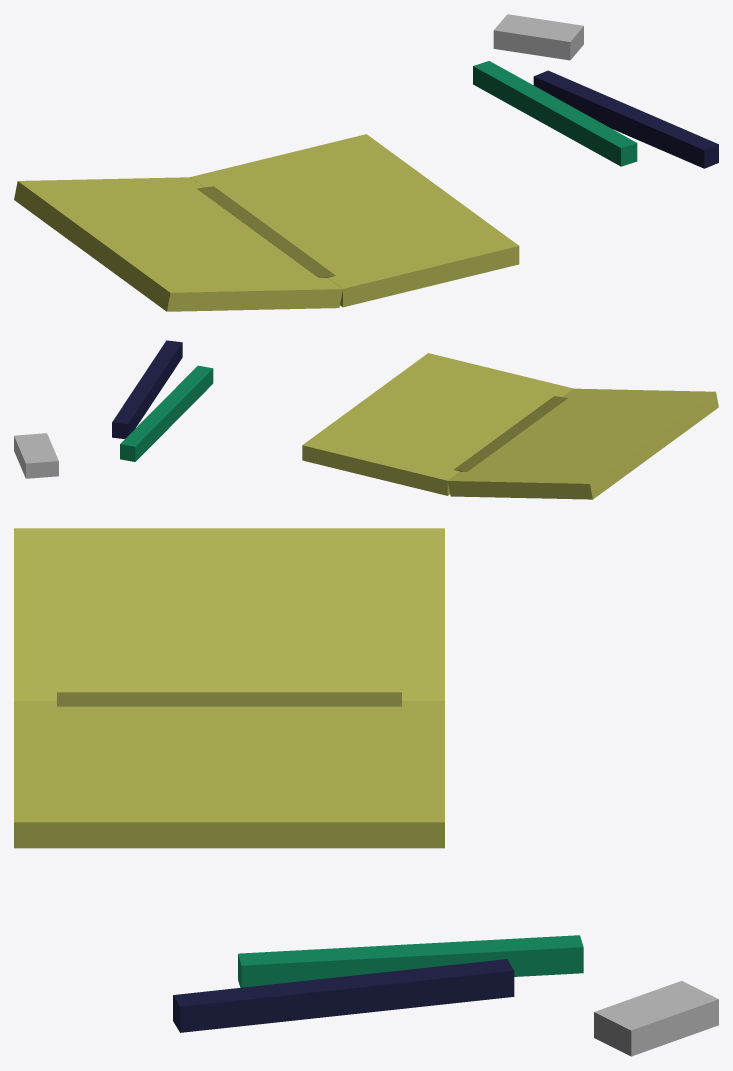
File: stuff04.obj
3 renders of one model, top to bottom at view 1: azimuth 30°, elevation 25°; view 2: azimuth 150°, elevation 25°; view 3: azimuth 270°, elevation 25°, orthographic. The views are drawn at different scales.
Parts seen in each view (by area): view 1: BookRight_Cube.001, BookLeft_Cube.006, Pen01_Cube.003, Pen02_Cube.004, Eraser_Cube.005, Cube_Cube.007; view 2: BookRight_Cube.001, BookLeft_Cube.006, Pen02_Cube.004, Pen01_Cube.003, Eraser_Cube.005, Cube_Cube.007; view 3: BookLeft_Cube.006, BookRight_Cube.001, Pen01_Cube.003, Pen02_Cube.004, Eraser_Cube.005, Cube_Cube.007.
Boxes of the visible parts, <box> form: BookRight_Cube.001: <box>190,134,519,307</box>; BookLeft_Cube.006: <box>14,177,342,311</box>; Pen01_Cube.003: <box>533,70,718,168</box>; Pen02_Cube.004: <box>473,61,637,166</box>; Eraser_Cube.005: <box>493,14,583,60</box>; Cube_Cube.007: <box>197,186,335,277</box>; BookRight_Cube.001: <box>302,353,573,495</box>; BookLeft_Cube.006: <box>447,388,718,499</box>; Pen02_Cube.004: <box>120,365,213,461</box>; Pen01_Cube.003: <box>112,340,182,438</box>; Eraser_Cube.005: <box>14,433,58,478</box>; Cube_Cube.007: <box>453,396,567,471</box>; BookLeft_Cube.006: <box>14,528,444,700</box>; BookRight_Cube.001: <box>14,701,444,848</box>; Pen01_Cube.003: <box>173,959,514,1032</box>; Pen02_Cube.004: <box>238,935,583,987</box>; Eraser_Cube.005: <box>594,981,718,1056</box>; Cube_Cube.007: <box>57,692,401,706</box>.
Size of the model in its own units: 0.721 by 0.0714 by 0.4906.
